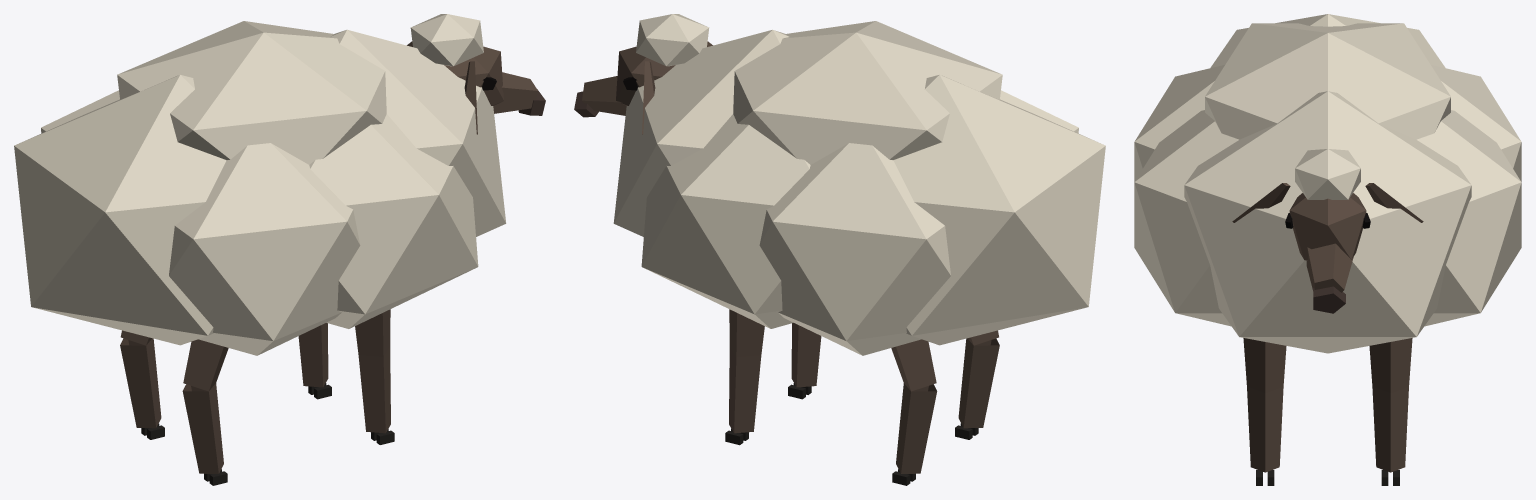
File: Oveja.obj
The picture shows the model from 3 angles, left to right: view 1: azimuth 30°, elevation 25°; view 2: azimuth 150°, elevation 25°; view 3: azimuth 270°, elevation 25°; orthographic projection.
Visible parts, largest first — view 1: Tronco, Pata_TD, Pata_DD, Pata_TI, Pata_DI; view 2: Tronco, Pata_TI, Pata_DI, Pata_TD, Pata_DD; view 3: Tronco, Pata_DI, Pata_DD.
Boxes of the visible parts, box(x1,y1,x2,y2) form: Tronco: box(14, 14, 545, 355); Pata_TD: box(182, 339, 228, 485); Pata_DD: box(355, 309, 394, 444); Pata_TI: box(120, 330, 164, 439); Pata_DI: box(298, 323, 331, 399); Tronco: box(574, 14, 1105, 355); Pata_TI: box(891, 339, 937, 485); Pata_DI: box(725, 309, 764, 445); Pata_TD: box(955, 330, 999, 439); Pata_DD: box(788, 323, 821, 399); Tronco: box(1134, 14, 1521, 353); Pata_DI: box(1369, 338, 1412, 485); Pata_DD: box(1243, 338, 1286, 485).
Bounding box in the file's own units: 1.22 × 0.93 × 0.8023.
